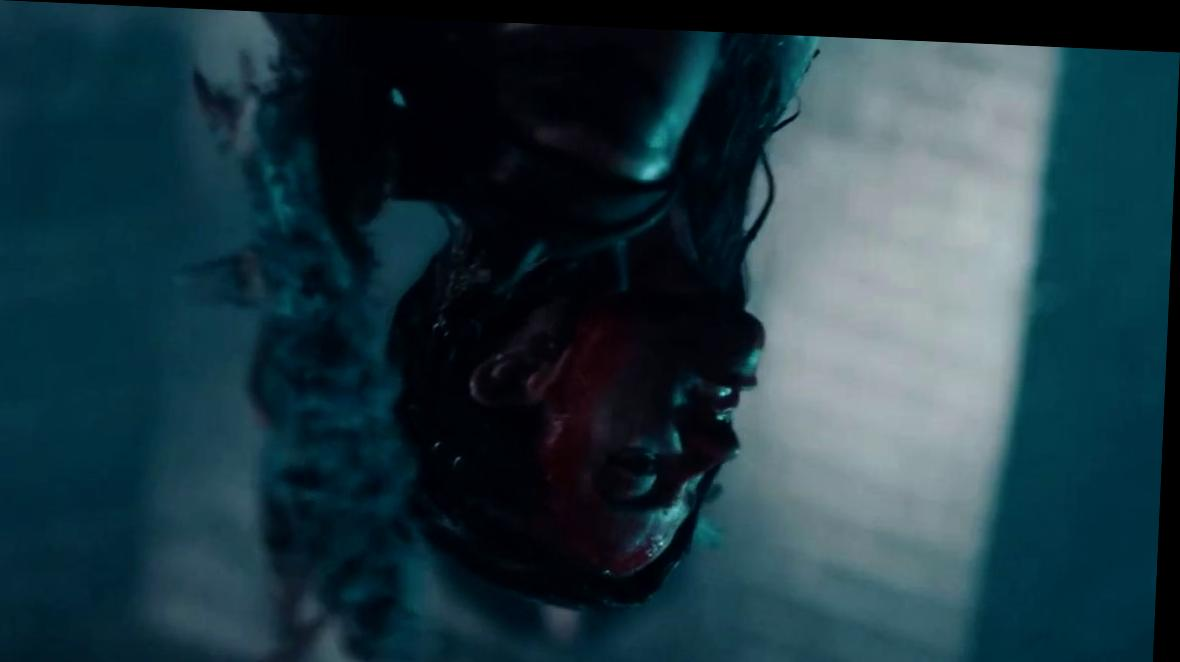Fire: (542, 295, 739, 570)
